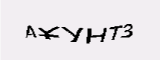А: (87, 16, 103, 41), (39, 22, 51, 39)
Р: (64, 17, 85, 45)
У: (100, 15, 120, 39), (48, 22, 68, 42)
